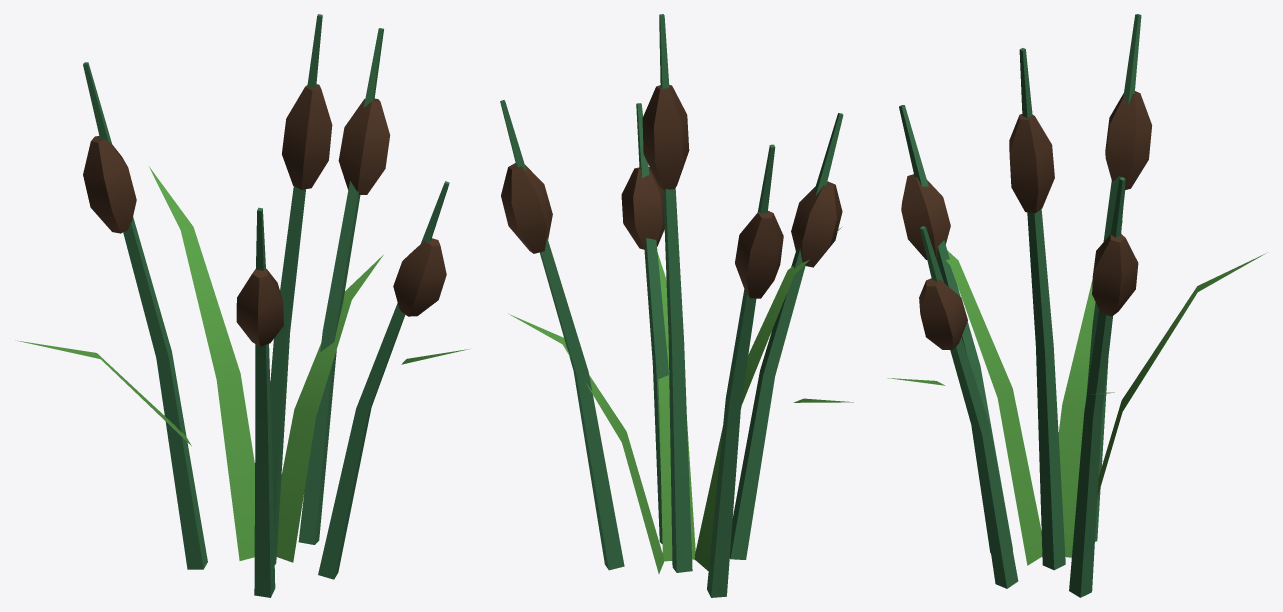
The model's file is reeds.glb.
3 views of the same model, side by side, from view 1: azimuth 30°, elevation 25°; view 2: azimuth 150°, elevation 25°; view 3: azimuth 270°, elevation 25° (orthographic). The views are drawn at different scales.
Visible parts, largest first — view 1: Part_LeafPineMid, Part_BarkDark, ReedBlades; view 2: Part_LeafPineMid, Part_BarkDark, ReedBlades; view 3: Part_LeafPineMid, Part_BarkDark, ReedBlades.
Part boxes in pixels (<box>): Part_LeafPineMid: <box>83,14,449,597</box>; Part_BarkDark: <box>83,84,446,346</box>; ReedBlades: <box>15,166,469,562</box>; Part_LeafPineMid: <box>500,14,843,597</box>; Part_BarkDark: <box>501,85,842,298</box>; ReedBlades: <box>508,227,853,573</box>; Part_LeafPineMid: <box>899,14,1141,597</box>; Part_BarkDark: <box>901,91,1152,349</box>; ReedBlades: <box>887,221,1267,565</box>.
Size of the model in its own units: 0.7845 by 1.12 by 0.729.
